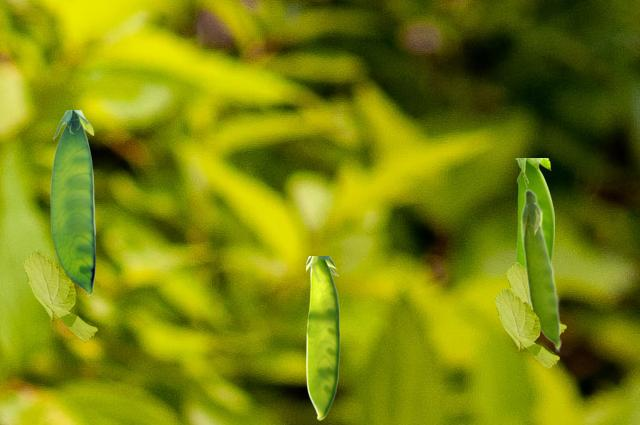pea: (50, 110, 94, 295), (520, 188, 561, 351), (306, 256, 339, 419), (515, 158, 553, 265)
